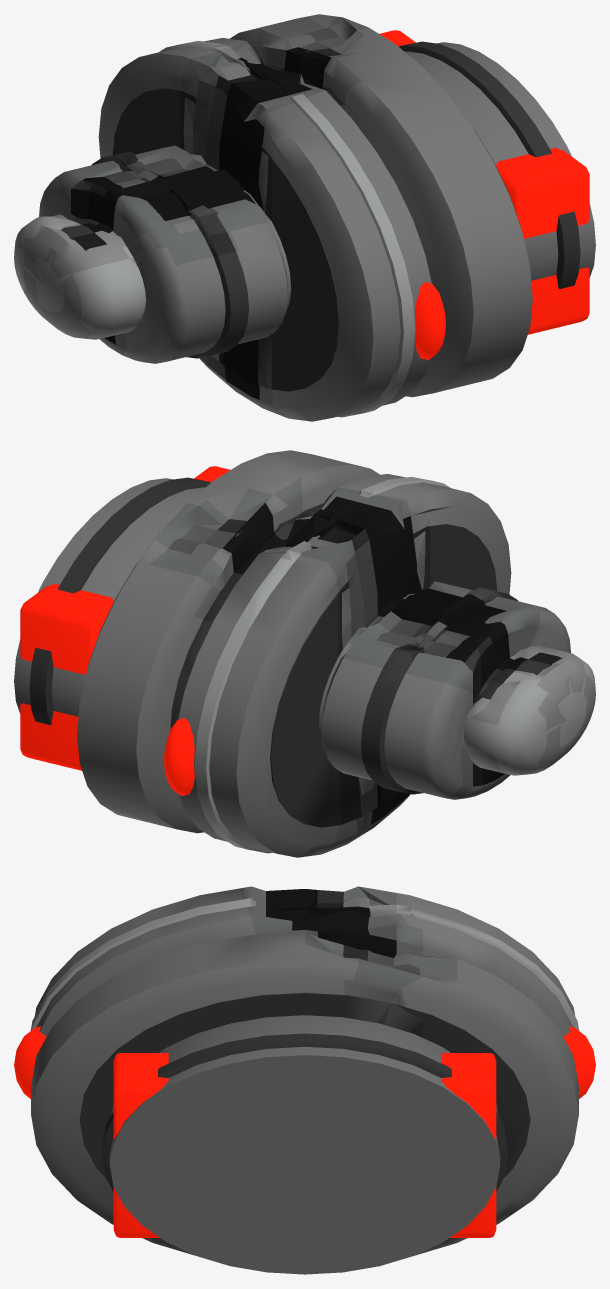
The model's file is station_end_left_damaged.glb.
3 views of the same model, one above another, from view 1: azimuth 30°, elevation 25°; view 2: azimuth 150°, elevation 25°; view 3: azimuth 270°, elevation 25° (orthographic).
Visible parts, largest first — view 1: flange0, flange1, tube, flange_face0, knob, clamp-1, collar, flange_band, collar_ring, tube_ring, lamp-1, hub (+1 smaller); view 2: flange0, flange1, tube, flange_face0, knob, clamp1, collar, flange_band, collar_ring, tube_ring, hub, lamp1; view 3: collar, flange1, flange0, flange_face1, collar_ring, flange_band, clamp1, clamp-1, lamp1, lamp-1.
Part boxes in pixels (x1,y1,x2,y2): flange0: (98, 38, 431, 421); flange1: (230, 14, 532, 397); tube: (39, 145, 291, 363); flange_face0: (112, 88, 339, 391); knob: (14, 214, 145, 339); clamp-1: (496, 147, 589, 334); collar: (405, 42, 595, 280); flange_band: (159, 40, 415, 417); collar_ring: (398, 41, 580, 289); tube_ring: (91, 151, 248, 358); lamp-1: (415, 281, 445, 359); hub: (264, 63, 438, 291); flange0: (178, 474, 511, 857); flange1: (77, 450, 379, 833); tube: (318, 581, 570, 799); flange_face0: (270, 524, 497, 827); knob: (464, 645, 595, 775); clamp1: (20, 584, 113, 770); collar: (14, 478, 204, 716); flange_band: (194, 476, 450, 853); collar_ring: (29, 477, 211, 725); tube_ring: (361, 587, 518, 794); hub: (170, 504, 323, 728); lamp1: (164, 717, 194, 795); collar: (109, 1015, 500, 1274); flange1: (31, 932, 578, 1255); flange0: (35, 886, 574, 1036); flange_face1: (79, 992, 530, 1177); collar_ring: (101, 1033, 508, 1191); flange_band: (30, 898, 579, 1030); clamp1: (441, 1053, 496, 1237); clamp-1: (113, 1053, 168, 1237); lamp1: (563, 1026, 595, 1098); lamp-1: (14, 1026, 46, 1098).
Size of the model in its own units: 20 by 13.05 by 22.2.
